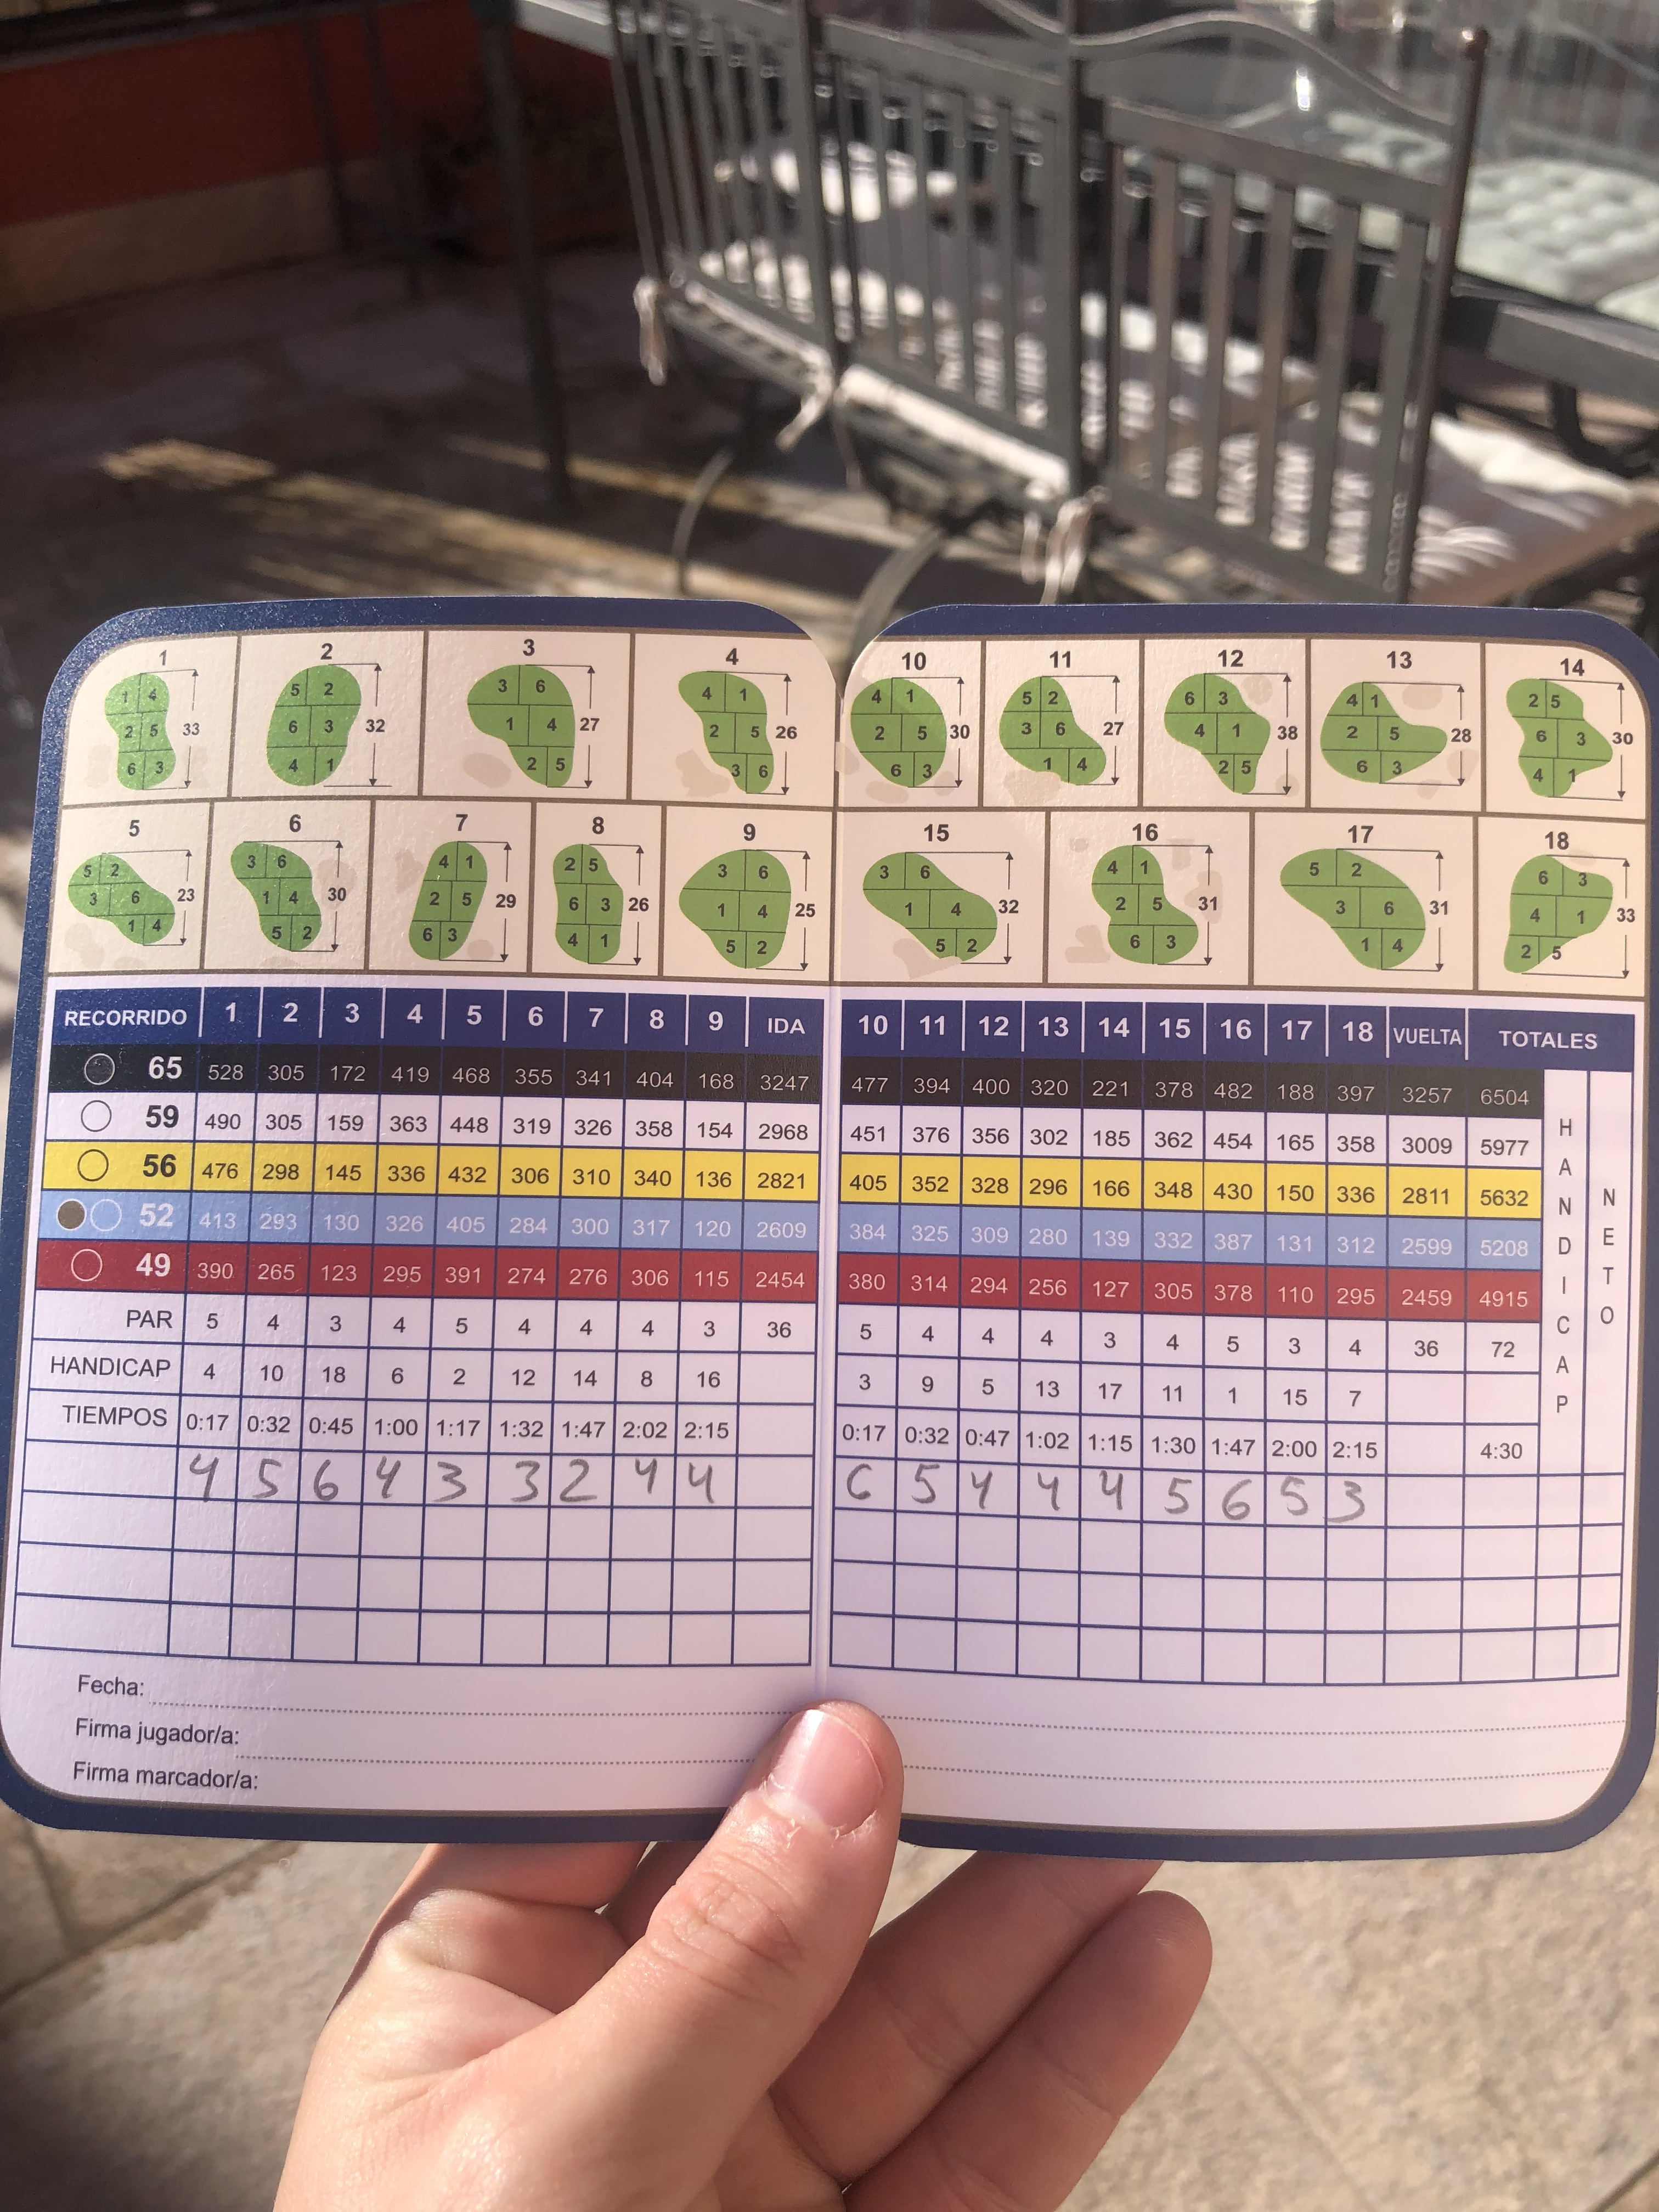par: (119, 1306, 1528, 1364)
score: (192, 1451, 1373, 1526)
